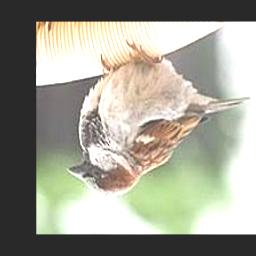Sparrow: (66, 41, 250, 199)
